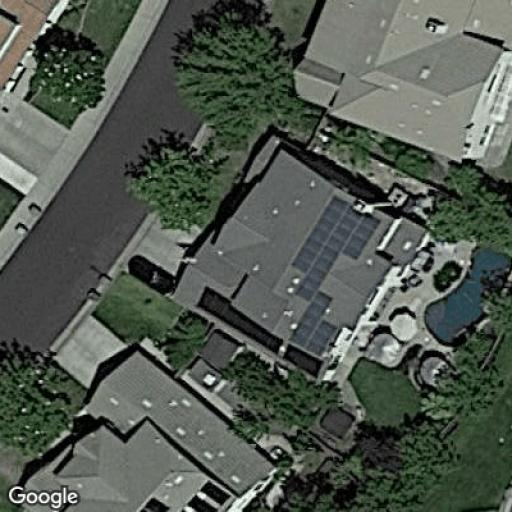solar-panel: (290, 194, 381, 301), (195, 284, 284, 356), (289, 291, 337, 355), (140, 480, 231, 512), (282, 340, 325, 380)
